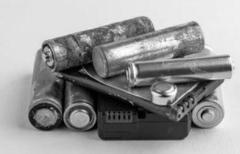electronic: (87, 15, 235, 101)
